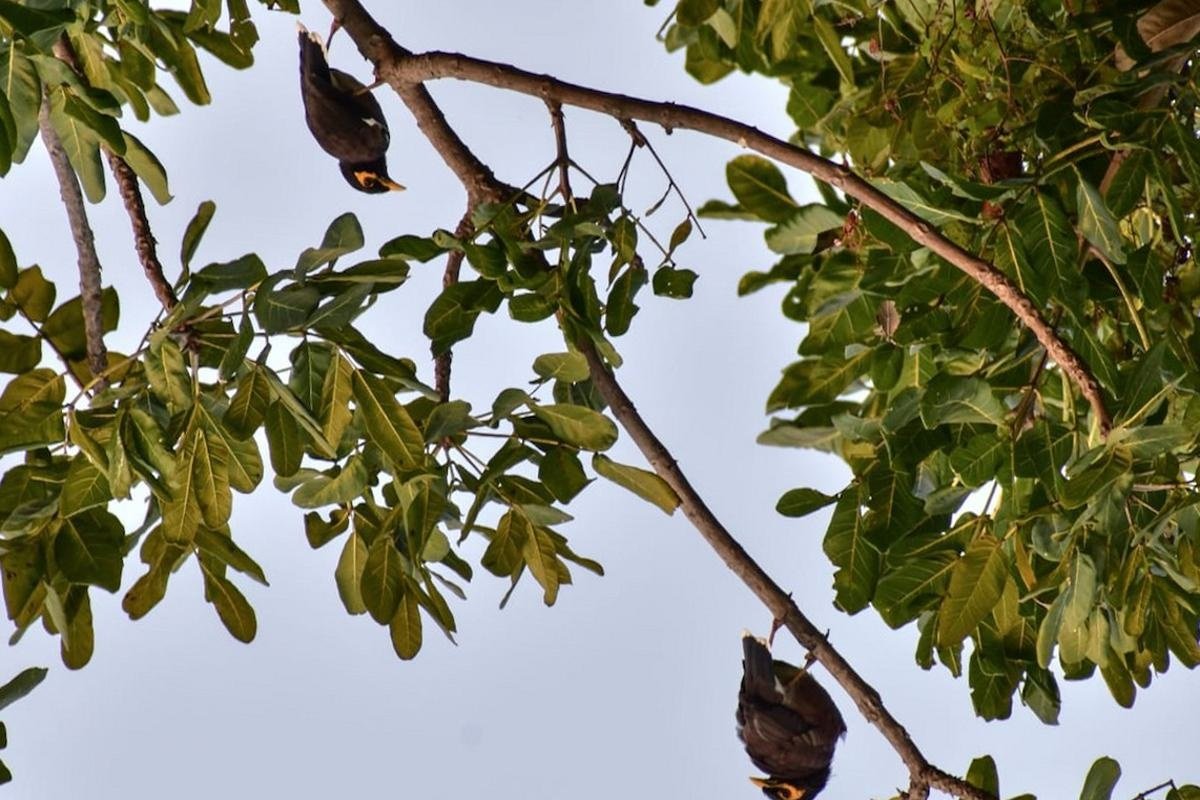myna: (718, 630, 870, 800), (266, 38, 414, 203)
